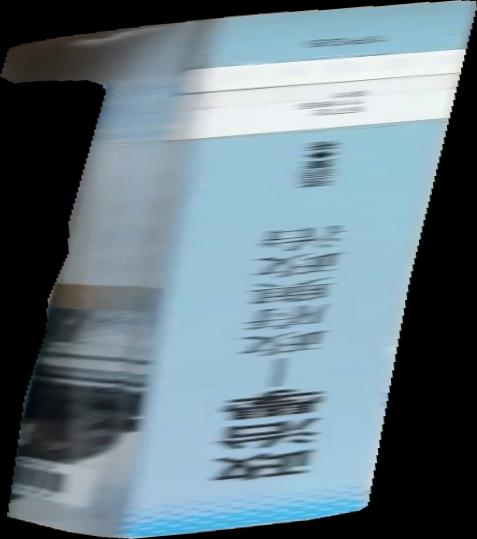reverse: (1, 1, 477, 539)
